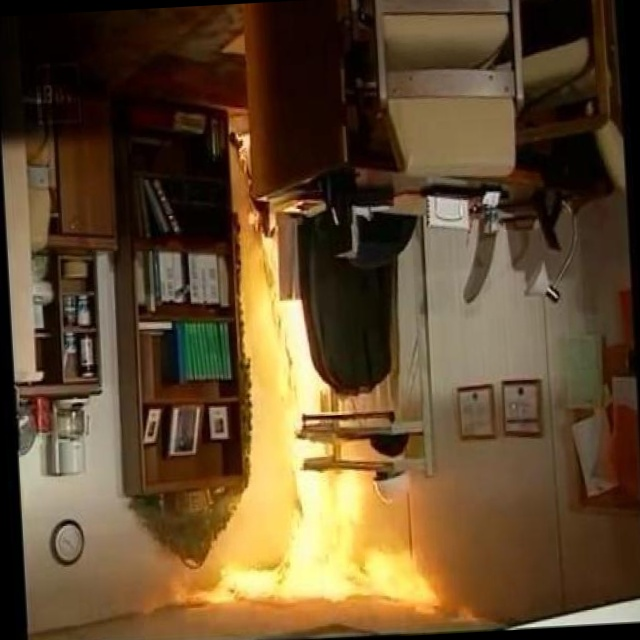fire: (208, 440, 410, 620)
